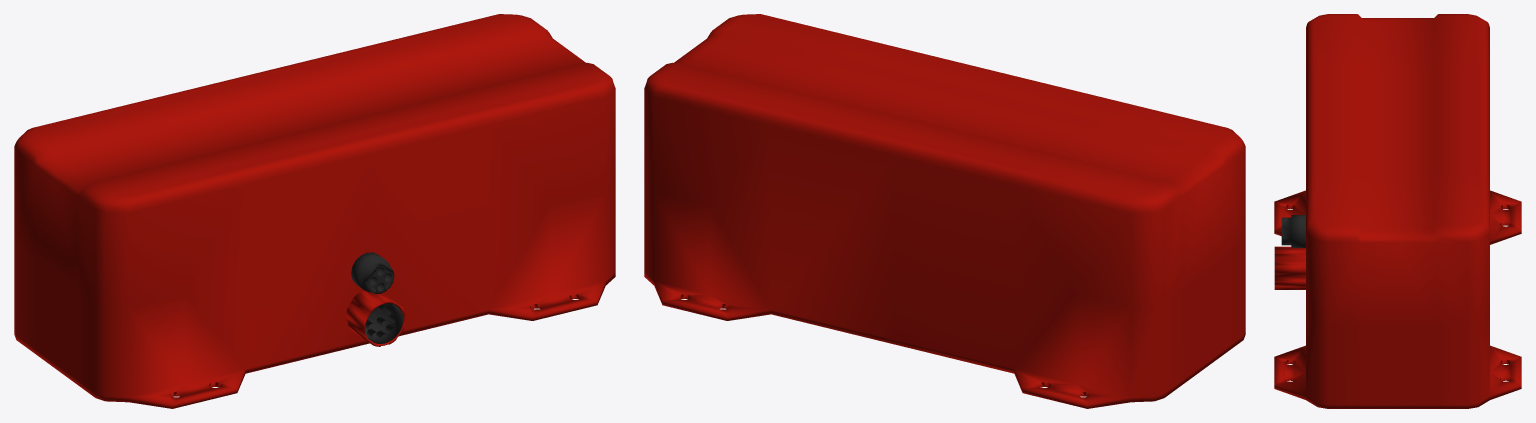
The model's file is blueview_m450.dae.
3 renders of one model, left to right at view 1: azimuth 30°, elevation 25°; view 2: azimuth 150°, elevation 25°; view 3: azimuth 270°, elevation 25°, orthographic. The views are drawn at different scales.
Visible parts, largest first — view 1: Cube; view 2: Cube; view 3: Cube.
Part boxes in pixels (<box>): Cube: <box>14,14,615,408</box>; Cube: <box>644,14,1245,408</box>; Cube: <box>1274,14,1521,408</box>.
Bounding box in the file's own units: 0.4069 × 0.1905 × 0.1499.
Materials: 2 (1 with a texture image).
